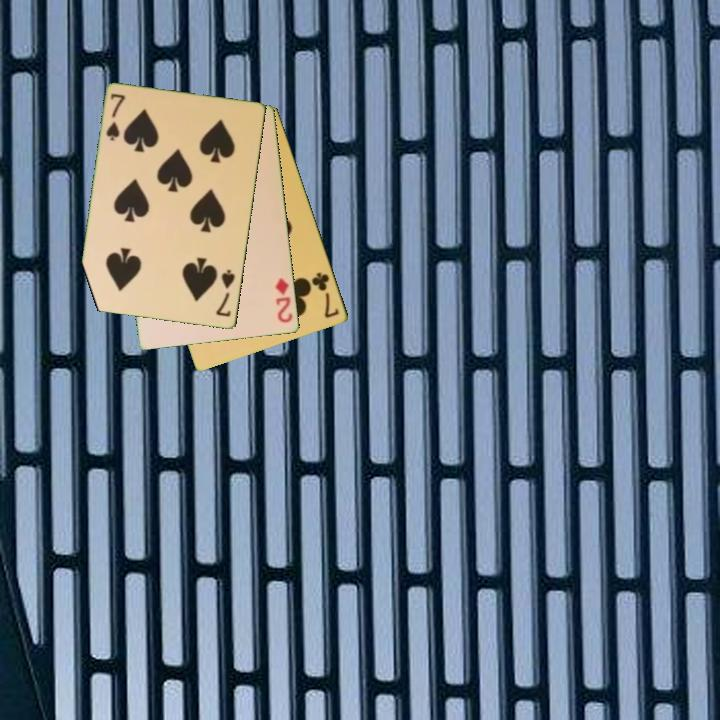2d: (272, 275, 296, 326)
7c: (308, 269, 342, 321)
7s: (213, 266, 238, 320), (103, 90, 128, 144)
